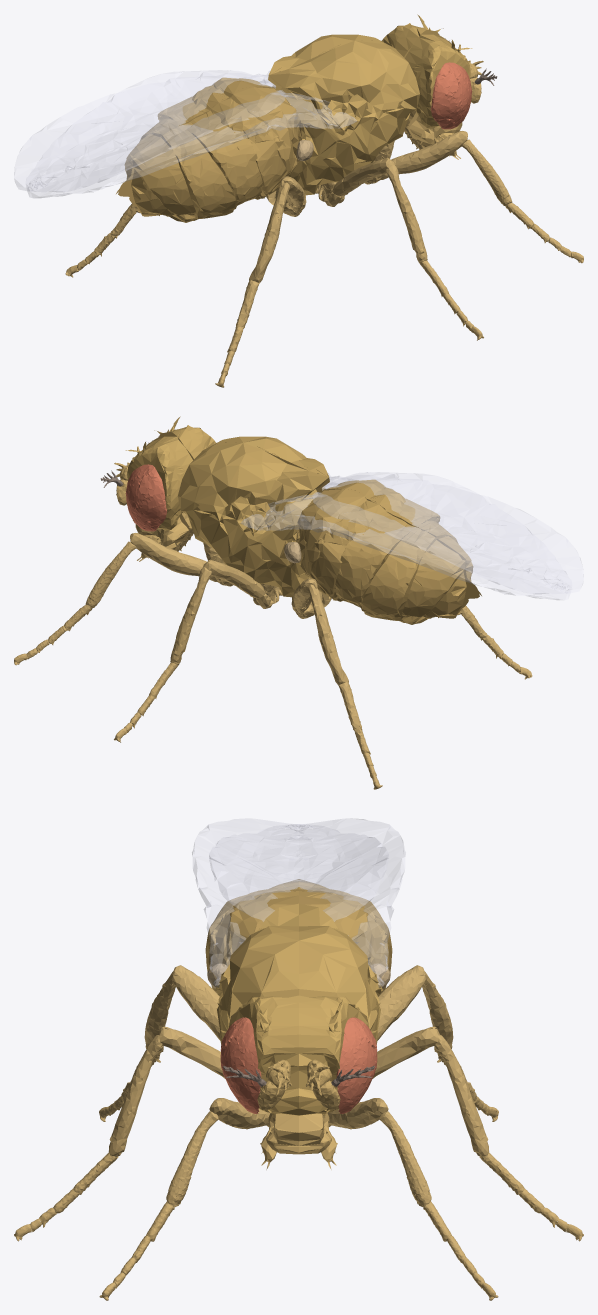
The model's file is fly_body.glb.
3 views of the same model, one above another, from view 1: azimuth 30°, elevation 25°; view 2: azimuth 150°, elevation 25°; view 3: azimuth 270°, elevation 25° (orthographic). The views are drawn at different scales.
Visible parts, largest first — view 1: r_wing, c_thorax, l_wing, c_abdomen6, c_abdomen4, c_abdomen5, c_head, c_abdomen3, c_abdomen12, r_eye, rf_trochanterfemur, rh_tibia (+6 smaller); view 2: l_wing, c_thorax, r_wing, c_abdomen6, c_abdomen4, c_abdomen5, c_head, c_abdomen3, c_abdomen12, l_eye, lf_trochanterfemur, lh_tibia (+6 smaller); view 3: l_wing, r_wing, c_thorax, c_head, c_abdomen12, l_eye, r_eye, c_rostrum, lm_tibia, rm_tibia, lh_trochanterfemur, rh_trochanterfemur (+11 smaller).
Boxes of the visible parts, left/top/right/bottom form: r_wing: left=26, top=70, right=356, bottom=197; c_thorax: left=268, top=34, right=420, bottom=195; l_wing: left=14, top=70, right=285, bottom=191; c_abdomen6: left=116, top=130, right=198, bottom=222; c_abdomen4: left=158, top=97, right=262, bottom=205; c_abdomen5: left=139, top=119, right=237, bottom=218; c_head: left=381, top=14, right=472, bottom=128; c_abdomen3: left=192, top=85, right=290, bottom=199; c_abdomen12: left=213, top=77, right=301, bottom=174; r_eye: left=431, top=62, right=472, bottom=129; rf_trochanterfemur: left=380, top=131, right=467, bottom=179; rh_tibia: left=249, top=182, right=289, bottom=282; l_wing: left=241, top=472, right=571, bottom=599; c_thorax: left=177, top=436, right=329, bottom=597; r_wing: left=312, top=472, right=583, bottom=593; c_abdomen6: left=399, top=532, right=481, bottom=624; c_abdomen4: left=335, top=499, right=439, bottom=607; c_abdomen5: left=360, top=521, right=458, bottom=620; c_head: left=125, top=416, right=216, bottom=530; c_abdomen3: left=307, top=487, right=405, bottom=601; c_abdomen12: left=296, top=479, right=384, bottom=576; l_eye: left=125, top=464, right=166, bottom=531; lf_trochanterfemur: left=130, top=533, right=217, bottom=581; lh_tibia: left=308, top=584, right=348, bottom=684; l_wing: left=209, top=818, right=405, bottom=987; r_wing: left=192, top=818, right=388, bottom=987; c_thorax: left=215, top=903, right=382, bottom=1044; c_head: left=229, top=995, right=368, bottom=1115; c_abdomen12: left=208, top=895, right=389, bottom=967; l_eye: left=336, top=1017, right=377, bottom=1113; r_eye: left=220, top=1017, right=261, bottom=1113; c_rostrum: left=260, top=1113, right=337, bottom=1169; lm_tibia: left=434, top=1035, right=489, bottom=1156; rm_tibia: left=108, top=1035, right=163, bottom=1156; lh_trochanterfemur: left=377, top=965, right=425, bottom=1040; rh_trochanterfemur: left=172, top=965, right=220, bottom=1040.
Size of the model in its own units: 3.82 by 1.82 by 3.01.
